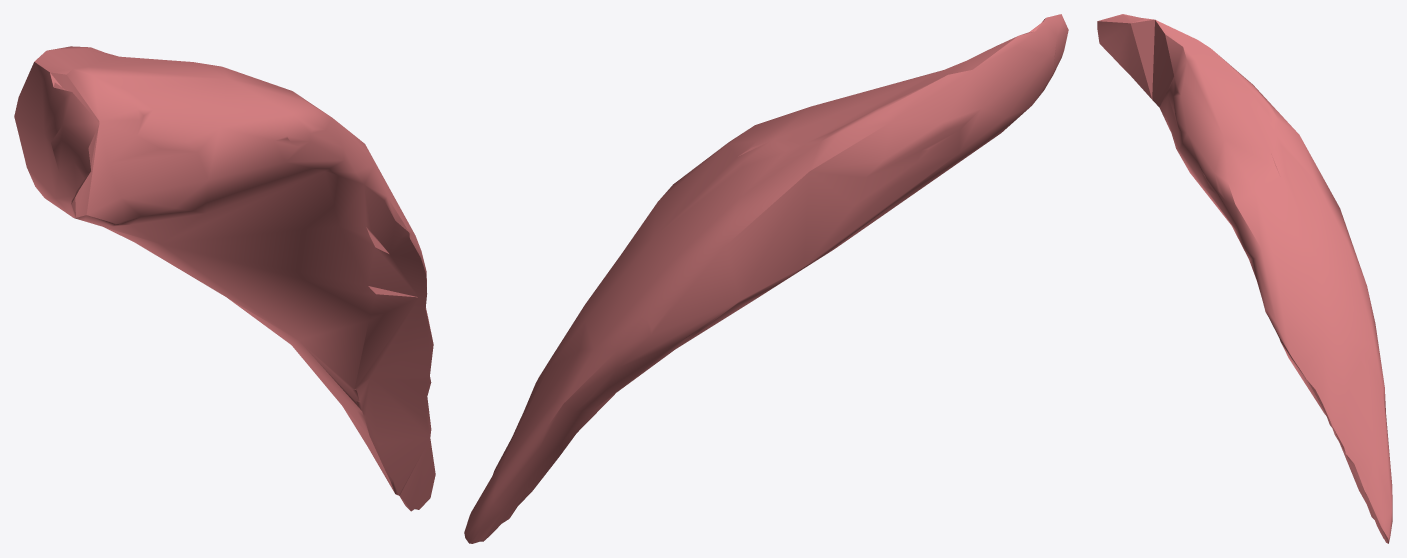
3 views of the same model, side by side, from view 1: azimuth 30°, elevation 25°; view 2: azimuth 150°, elevation 25°; view 3: azimuth 270°, elevation 25° (orthographic). The views are drawn at different scales.
Parts seen in each view (by area): view 1: FJ1508; view 2: FJ1508; view 3: FJ1508.
Part boxes in pixels (left/top/right/bottom): FJ1508: left=14, top=46, right=435, bottom=511; FJ1508: left=464, top=14, right=1068, bottom=543; FJ1508: left=1097, top=14, right=1392, bottom=543.
Size of the model in its own units: 0.0847 by 0.0958 by 0.0675.
